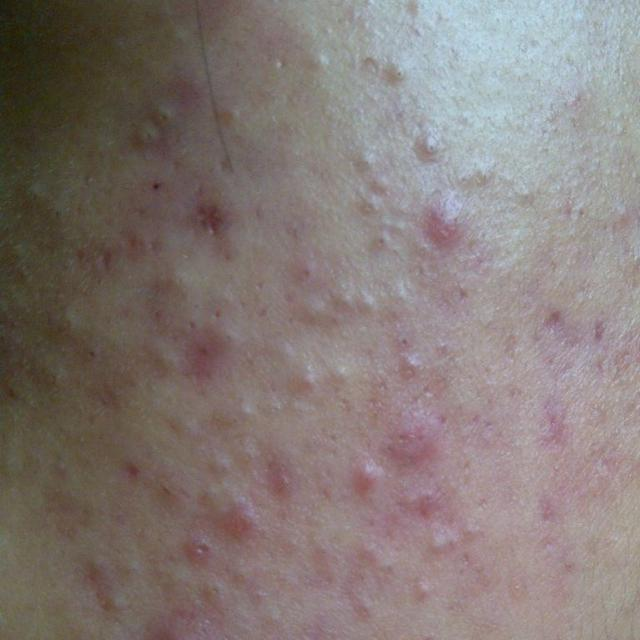nodule: (372, 403, 444, 474), (410, 184, 472, 256), (215, 490, 262, 538), (354, 454, 391, 498)
